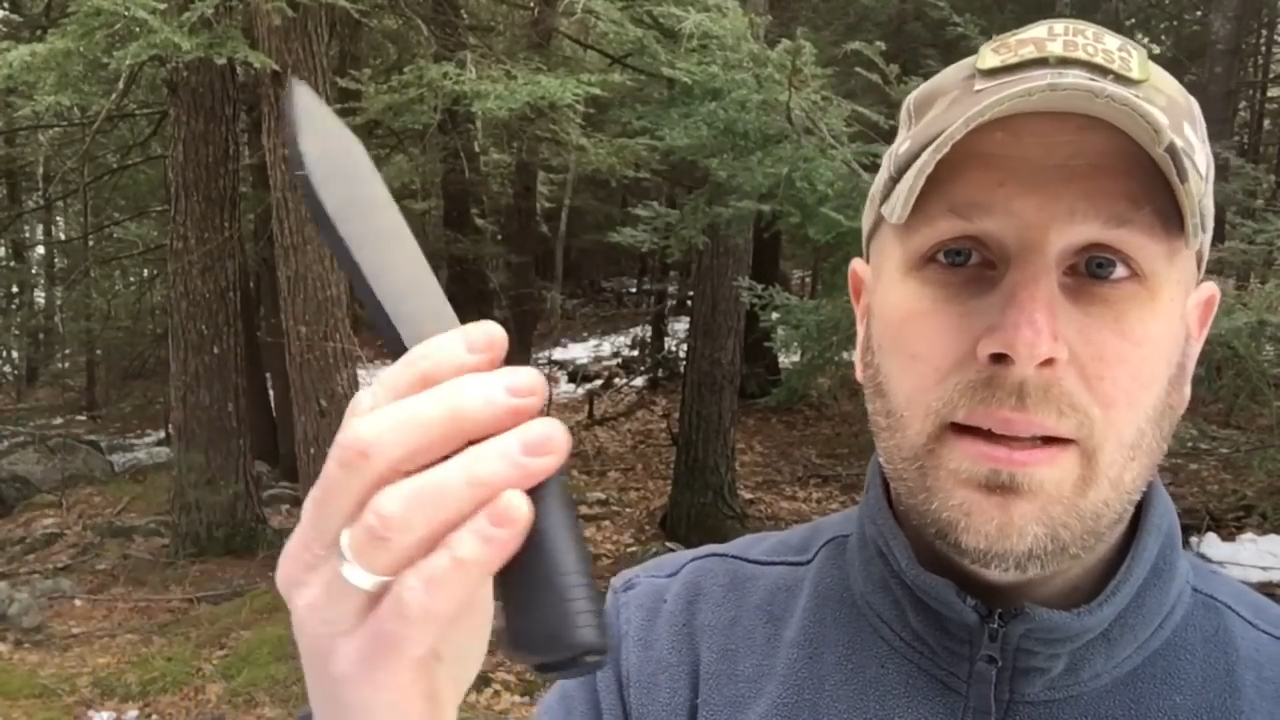knife: (265, 59, 577, 482)
